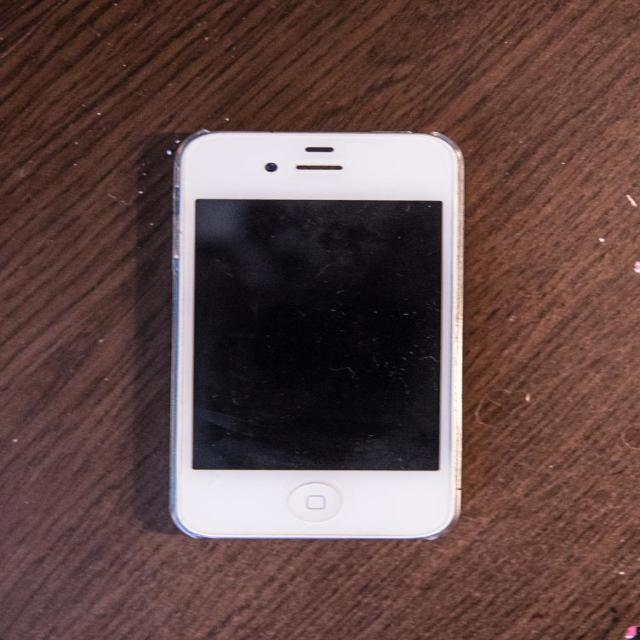Phone: (165, 129, 469, 547)
